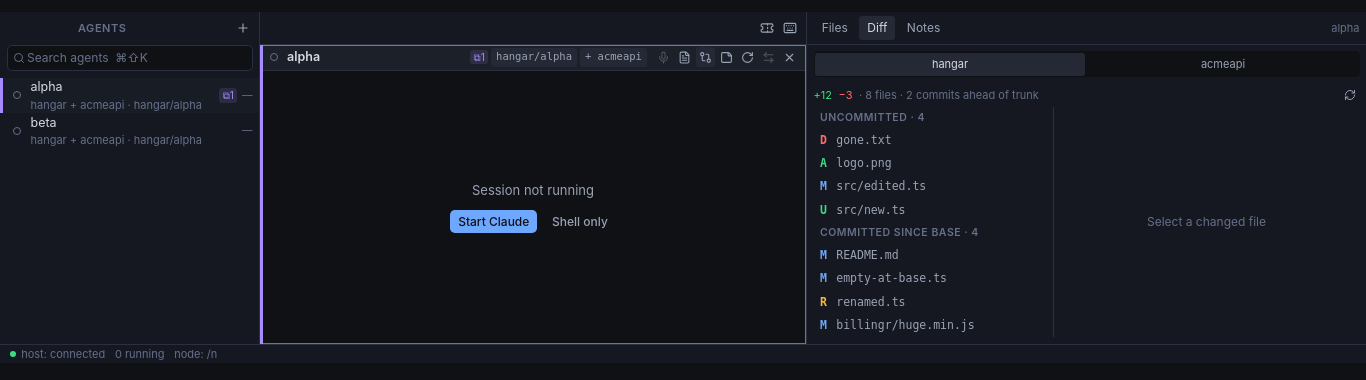
Test: placement in the whole app (G60) › a real bubbling click on a path reaches the row and nothing upstream
The width and height of the screenshot is (1366, 380).
Click the text with class "truncate" showing "src/edited.ts" at (881, 187), box [836,178,926,196]
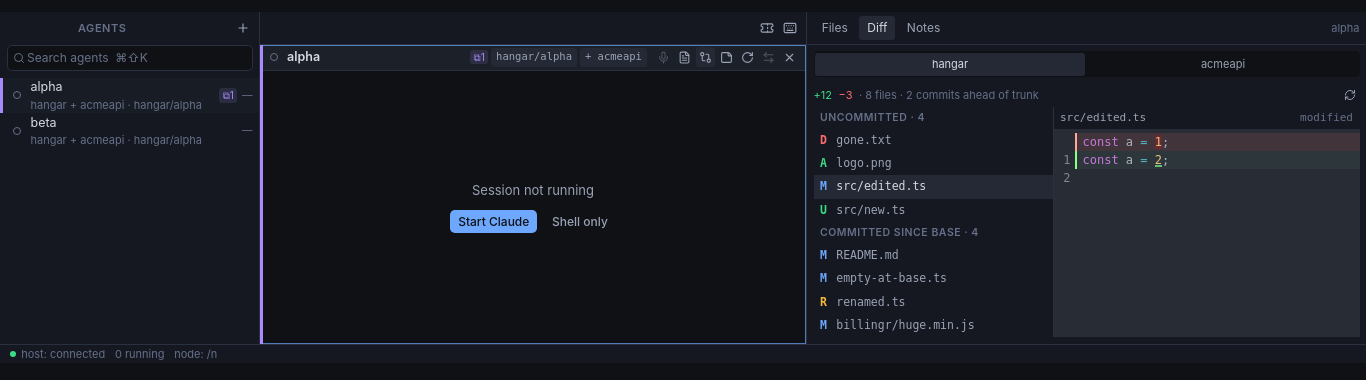
Expected: the field with class "cm-content" shows "const a = 2;", [1076,133,1360,169]
